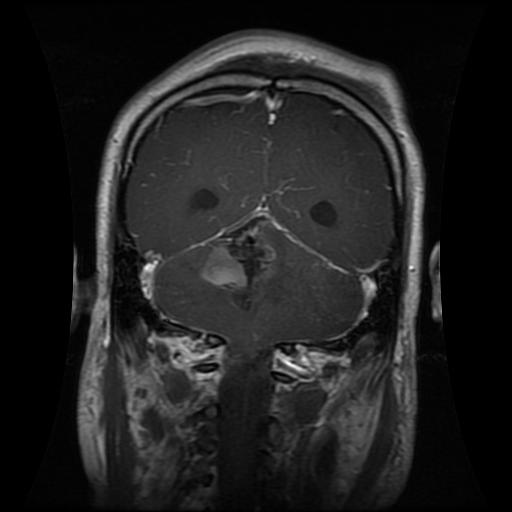Gliomia_tumour: (197, 216, 278, 311)
